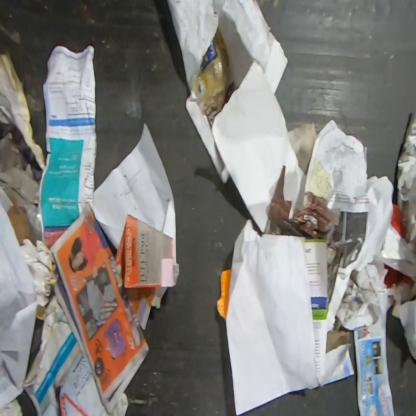cardboard: (7, 204, 37, 247), (383, 263, 415, 289), (391, 202, 408, 241)
